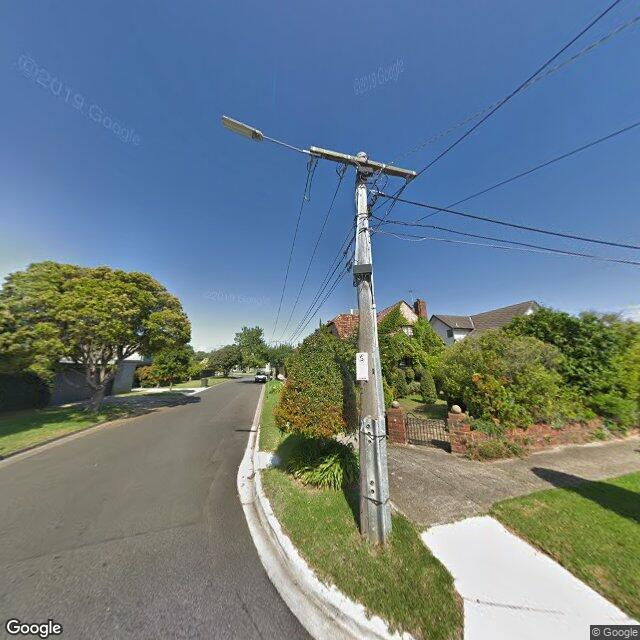crossarm: (310, 146, 415, 178)
streetlight: (222, 116, 310, 154)
timber-pole: (356, 152, 392, 544)
